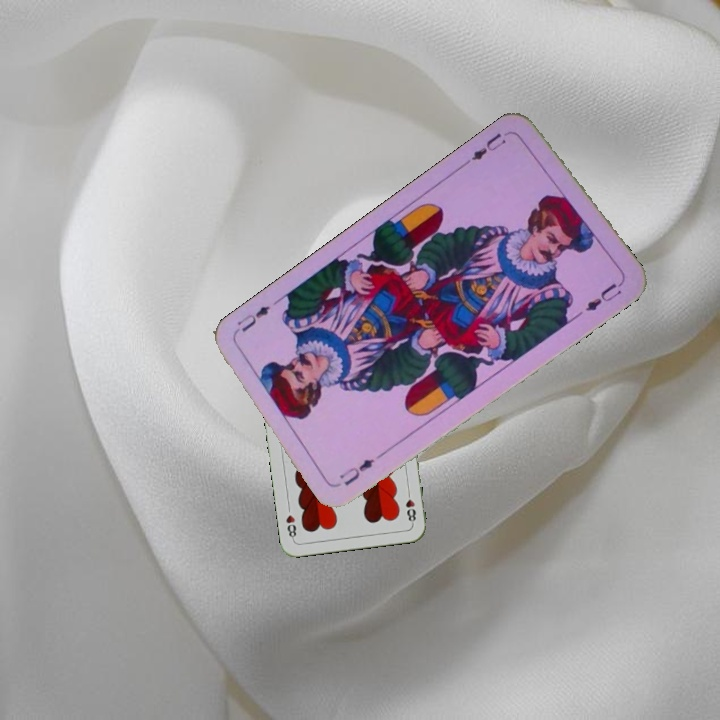EU: (462, 129, 509, 167), (335, 454, 377, 489)
H8: (402, 486, 418, 526)
